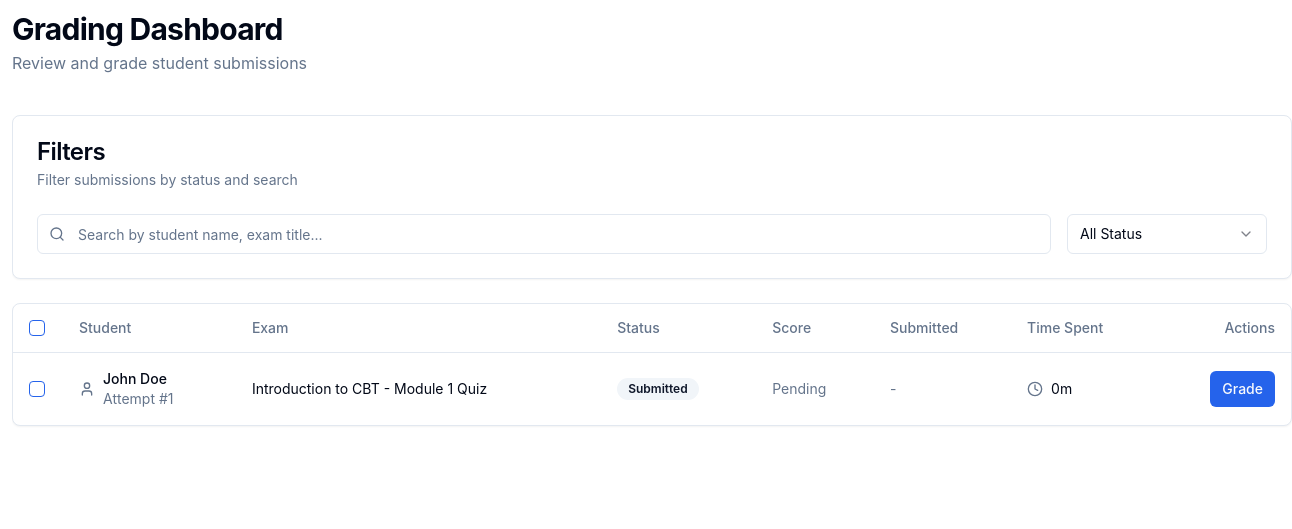
it: GradingPage › Bulk Actions › should show bulk actions toolbar when submissions are selected
Expected: the text "John Doe" is shown, [103,368,174,388]
First checkbox is the select-all checkbox
What coordinates should you click on to do the following:
click the checkbox named "Select all submissions"
I would click on:
 (37, 328)
Its box is [29,320,45,336].
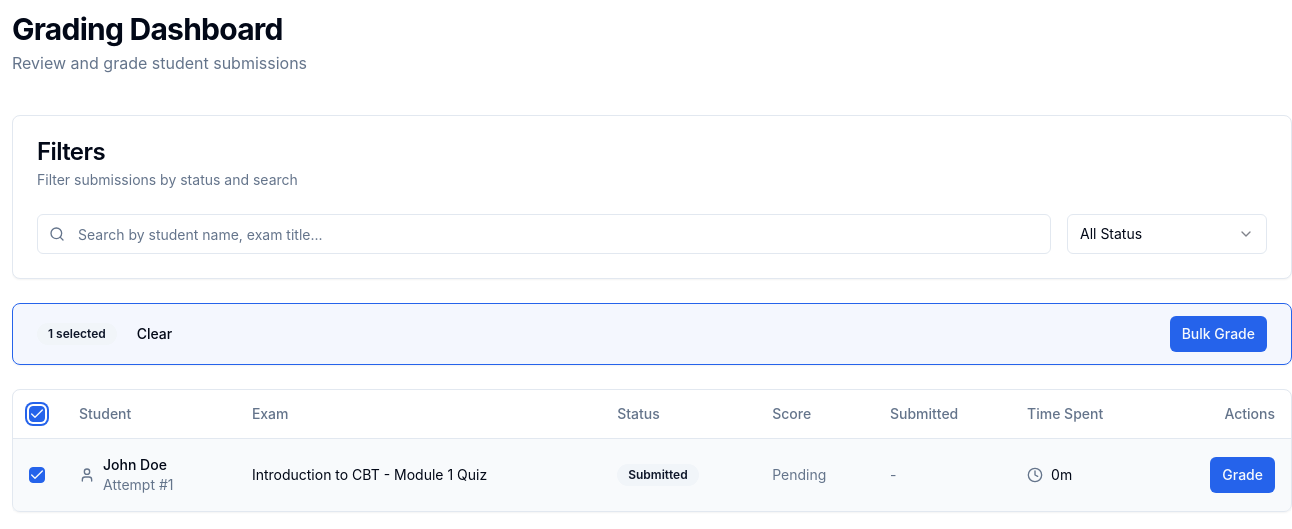
Expected: the text "1 selected" is shown, [37,323,117,345]
Expected: the button "Bulk Grade" is shown, [1170,316,1267,352]
